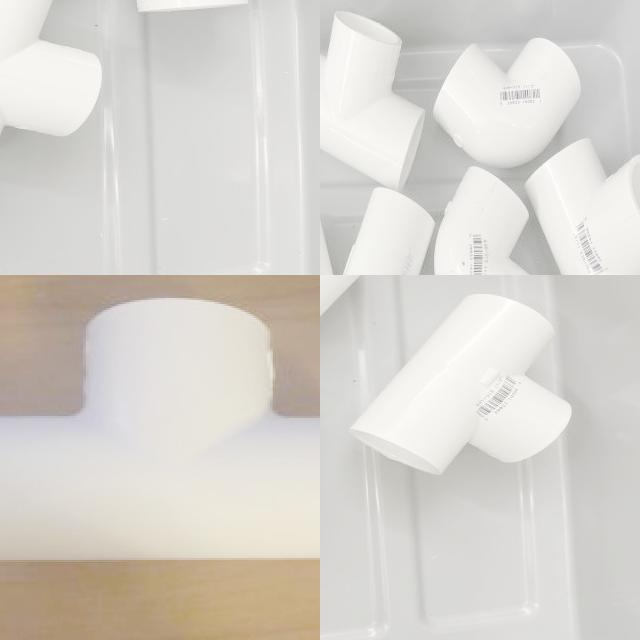L Joint: (433, 38, 580, 166), (434, 166, 536, 275)
T Joint: (0, 299, 320, 565), (348, 294, 572, 477), (320, 11, 426, 192), (533, 139, 640, 275)
